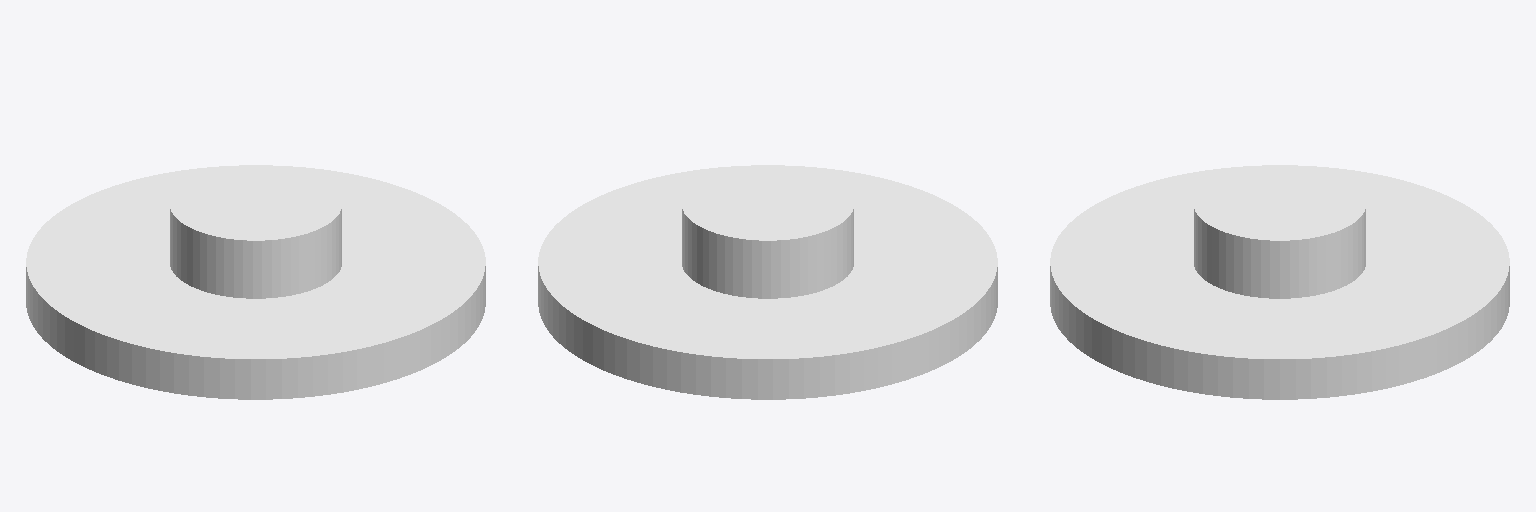
File: flange_21-b0-subdiviced.obj
3 views of the same model, side by side, from view 1: azimuth 30°, elevation 25°; view 2: azimuth 150°, elevation 25°; view 3: azimuth 270°, elevation 25° (orthographic).
Size of the model in its own units: 165 by 41 by 165.